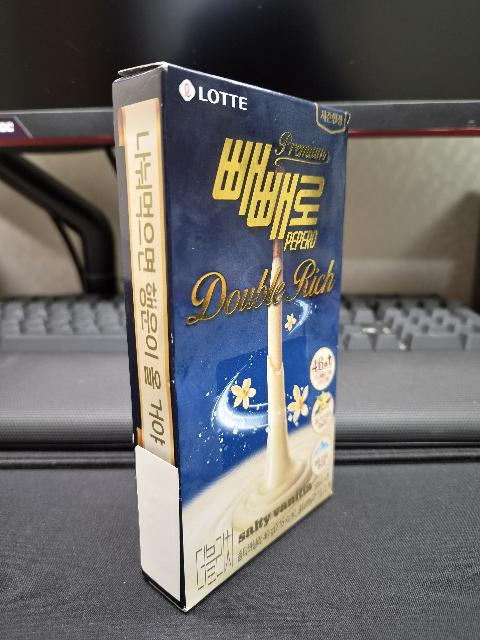pepero: (112, 62, 351, 612)
